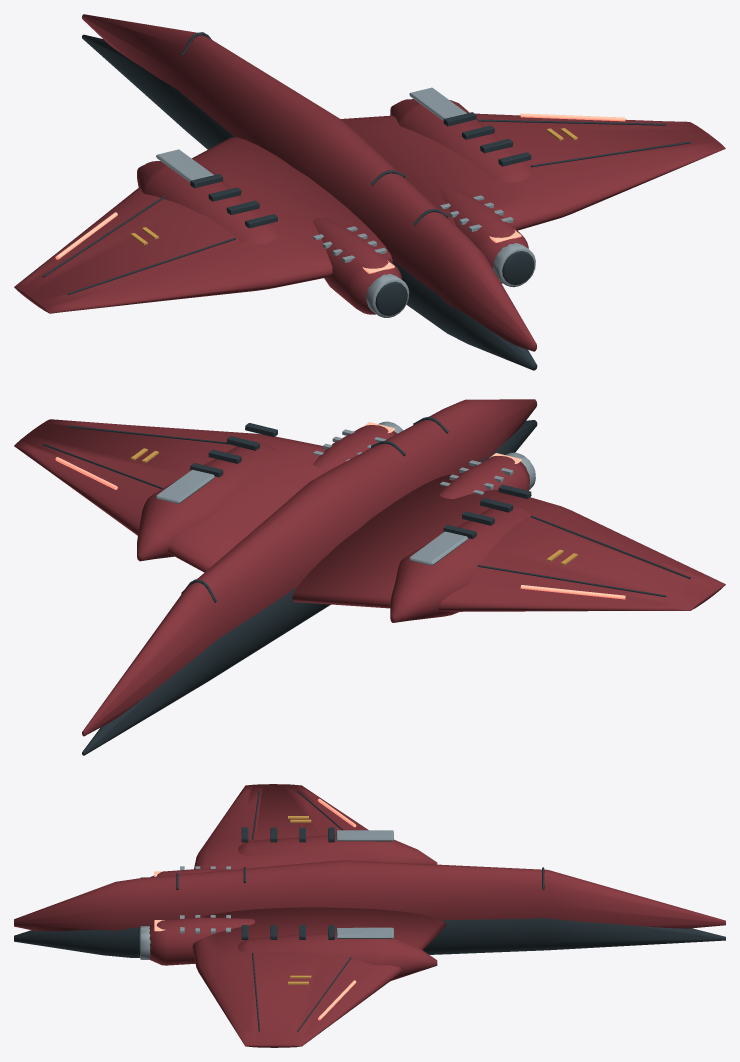
File: tactical-5.glb
The picture shows the model from 3 angles, top to bottom: view 1: azimuth 30°, elevation 25°; view 2: azimuth 150°, elevation 25°; view 3: azimuth 270°, elevation 25°; orthographic projection. The views are drawn at different scales.
Parts seen in each view (by area): view 1: SM_Hull, SM_Wing_Left, SM_Wing_Right, SM_Weapon_Left, SM_Weapon_Right, SM_Engine_Left, SM_Engine_Right; view 2: SM_Hull, SM_Wing_Left, SM_Wing_Right, SM_Weapon_Left, SM_Weapon_Right, SM_Engine_Left, SM_Engine_Right; view 3: SM_Hull, SM_Wing_Right, SM_Wing_Left, SM_Weapon_Right, SM_Weapon_Left, SM_Engine_Right.
Part boxes in pixels (x1,y1,x2,y2): SM_Hull: [82, 14, 537, 370]; SM_Wing_Left: [14, 137, 392, 313]; SM_Wing_Right: [341, 113, 725, 230]; SM_Weapon_Left: [137, 149, 278, 244]; SM_Weapon_Right: [390, 87, 531, 182]; SM_Engine_Left: [313, 217, 409, 317]; SM_Engine_Right: [439, 186, 535, 287]; SM_Hull: [82, 399, 537, 755]; SM_Wing_Left: [292, 474, 725, 611]; SM_Wing_Right: [14, 419, 341, 572]; SM_Weapon_Left: [390, 484, 531, 622]; SM_Weapon_Right: [137, 423, 278, 561]; SM_Engine_Left: [439, 452, 535, 498]; SM_Engine_Right: [313, 421, 403, 467]; SM_Hull: [14, 860, 725, 957]; SM_Wing_Right: [192, 907, 446, 1047]; SM_Wing_Left: [194, 784, 402, 869]; SM_Weapon_Right: [238, 925, 437, 980]; SM_Weapon_Left: [238, 827, 437, 864]; SM_Engine_Right: [138, 915, 255, 965].
Size of the model in its own units: 6.4 by 1.08 by 7.4.
